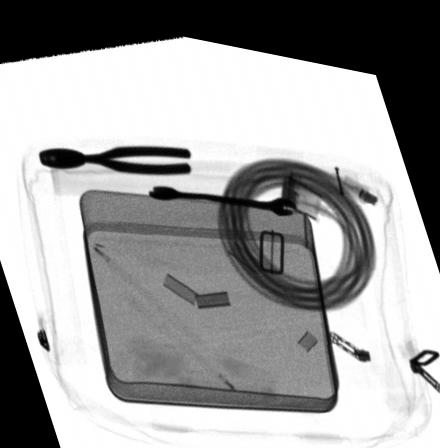Pliers: (38, 138, 191, 168)
Wrench: (149, 178, 297, 205)
